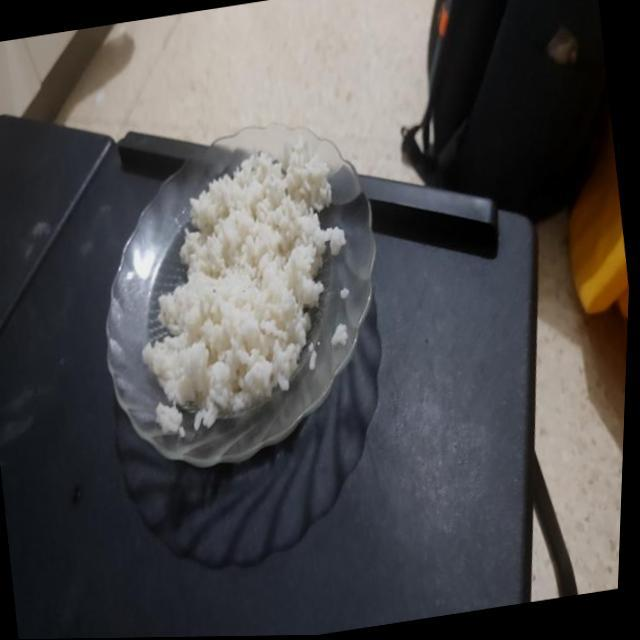nasi_putih: (142, 141, 346, 426)
